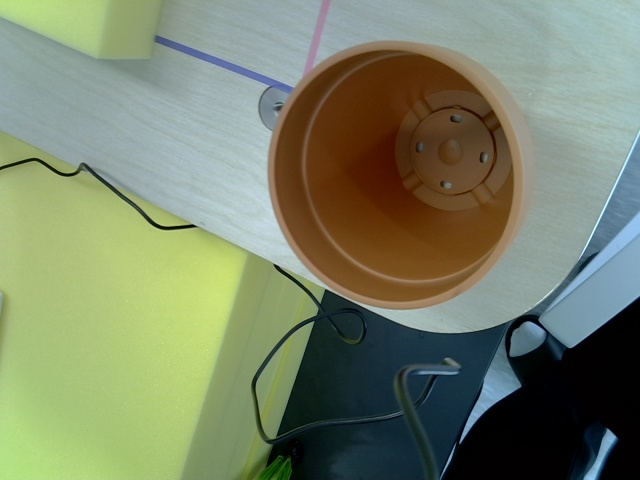화분: (267, 39, 539, 310)
